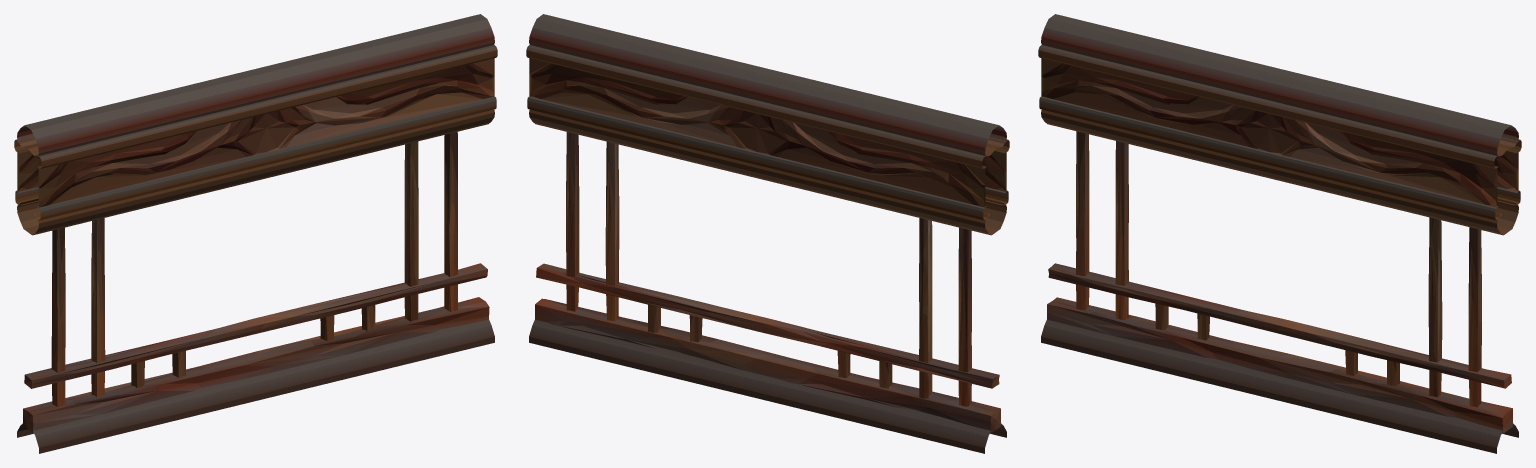
The model's file is Wall_HomeA-TrimC-6m.fbx.
3 renders of one model, left to right at view 1: azimuth 30°, elevation 25°; view 2: azimuth 150°, elevation 25°; view 3: azimuth 330°, elevation 25°, orthographic.
Visible parts, largest first — view 1: Wall_HomeA-TrimC-6m; view 2: Wall_HomeA-TrimC-6m; view 3: Wall_HomeA-TrimC-6m.
Part boxes in pixels (left/top/right/bottom): Wall_HomeA-TrimC-6m: left=14, top=14, right=497, bottom=453; Wall_HomeA-TrimC-6m: left=526, top=14, right=1009, bottom=453; Wall_HomeA-TrimC-6m: left=1038, top=14, right=1521, bottom=453.
Bounding box in the file's own units: 600 × 400 × 62.3.
